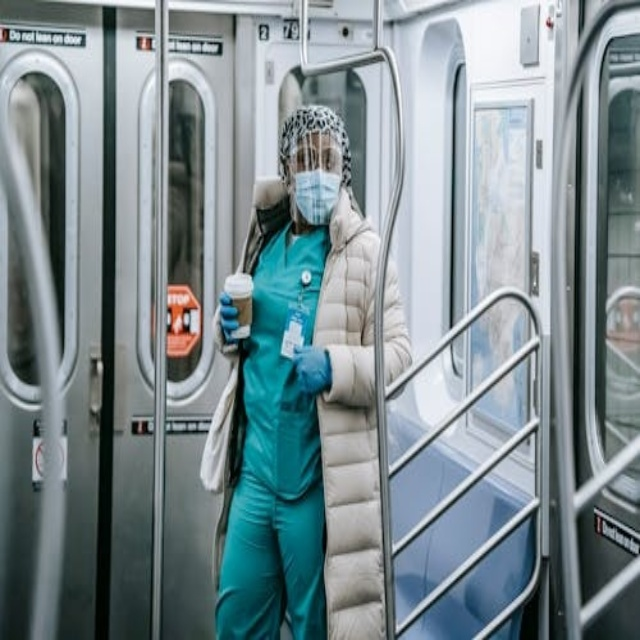Gafas: (288, 146, 342, 174)
Guantes: (292, 345, 331, 396), (218, 293, 241, 347)
Mascara: (292, 169, 341, 226)
